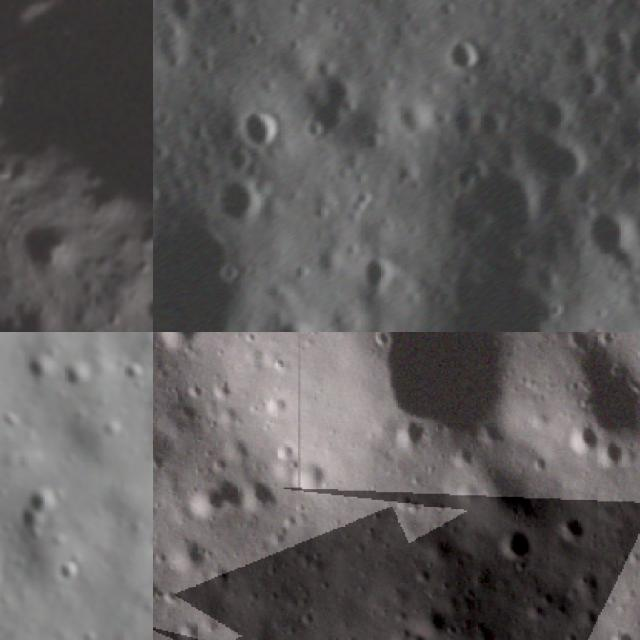crater: (381, 332, 514, 450), (563, 332, 640, 448), (204, 160, 282, 242), (576, 203, 640, 265), (227, 94, 291, 150), (442, 26, 490, 78), (184, 479, 246, 519), (164, 533, 212, 577), (294, 452, 335, 498), (618, 9, 640, 91), (356, 254, 399, 295), (495, 525, 532, 572), (61, 358, 100, 397), (555, 508, 586, 556), (390, 416, 428, 454), (599, 438, 633, 474), (18, 353, 51, 390), (566, 425, 603, 456), (153, 332, 200, 354), (124, 363, 150, 394), (58, 559, 82, 586), (605, 624, 637, 640), (143, 289, 153, 320)
